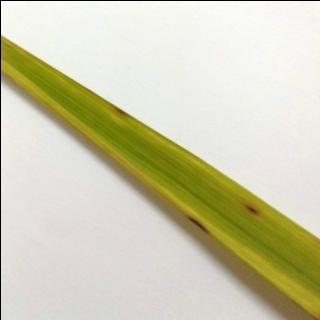bercak-Cokelat: (176, 209, 209, 237), (234, 198, 262, 226)
